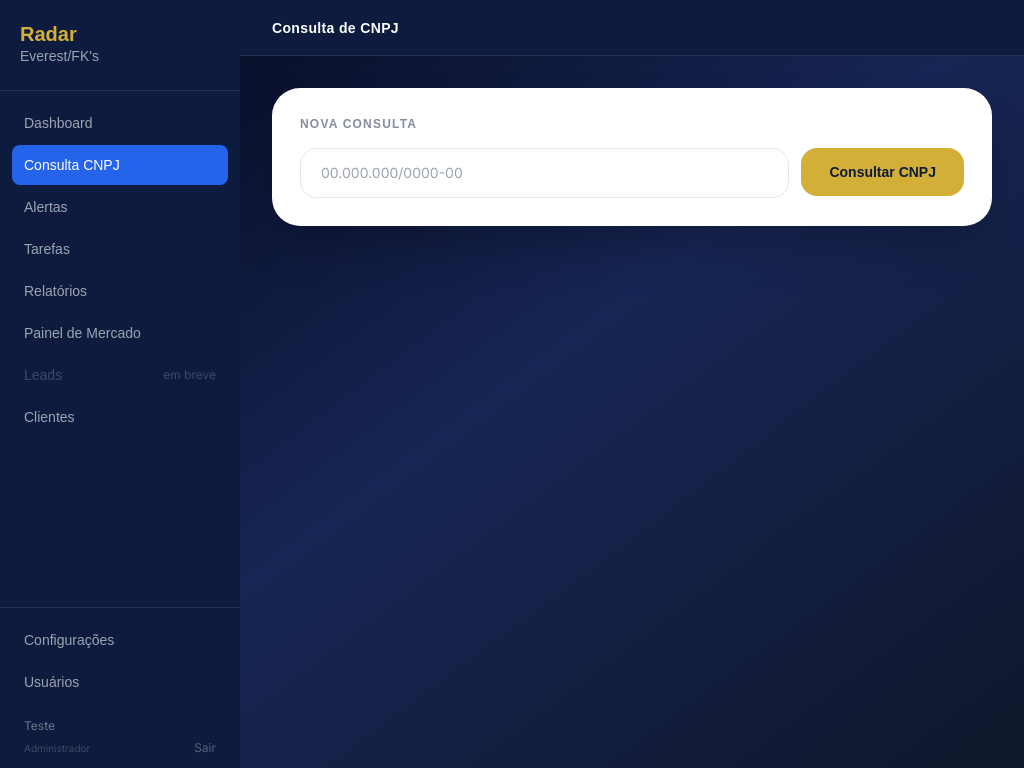
it: App › exibe erro ao submeter com campo vazio
What coordinates should you click on to do the following:
click the button "Consultar CNPJ"
I would click on:
 (883, 172)
Its box is x1=801 y1=148 x2=964 y2=196.
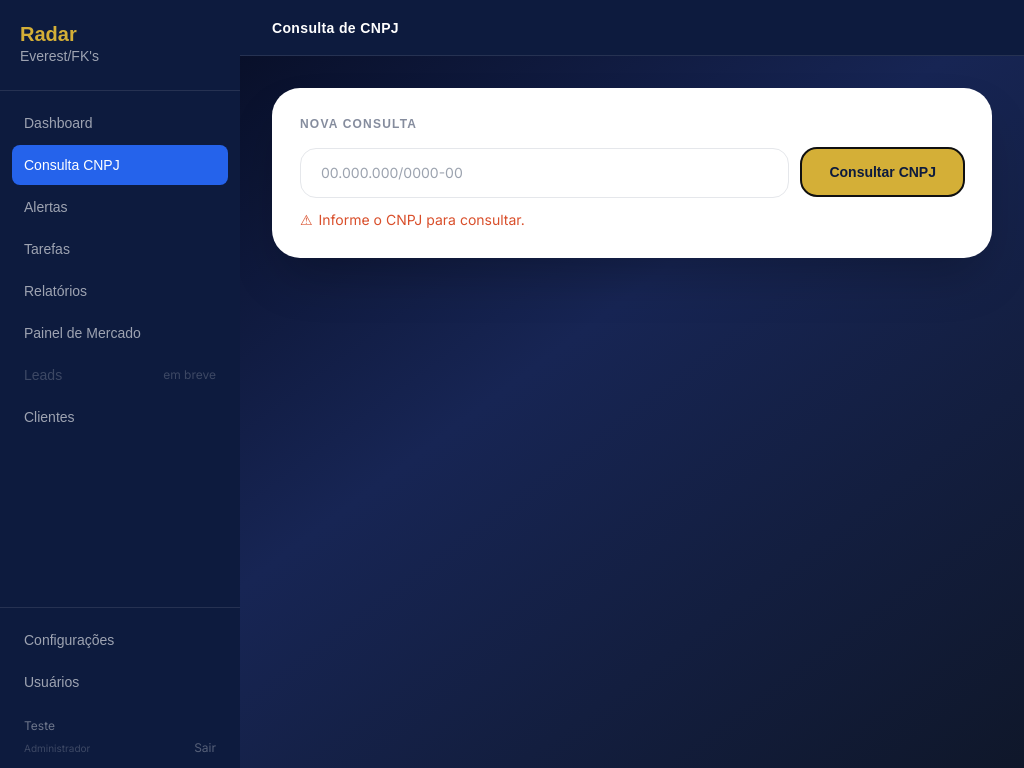
Check: the message shows "Informe o CNPJ para consultar.", box x1=319 y1=211 x2=525 y2=228
